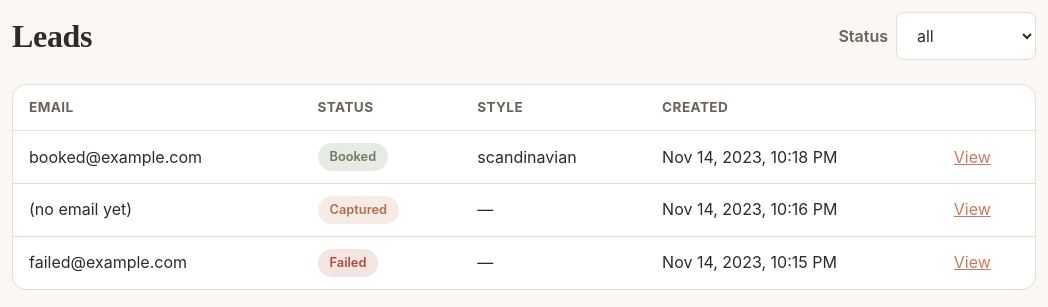
it: LeadsListPage › filtering by booked hides non-booked rows
Expected: the text "booked@example.com" is shown, [13,131,302,183]
Select "booked" in the dropdown labelled "Status" at point(966, 36), box [896,12,1036,60]
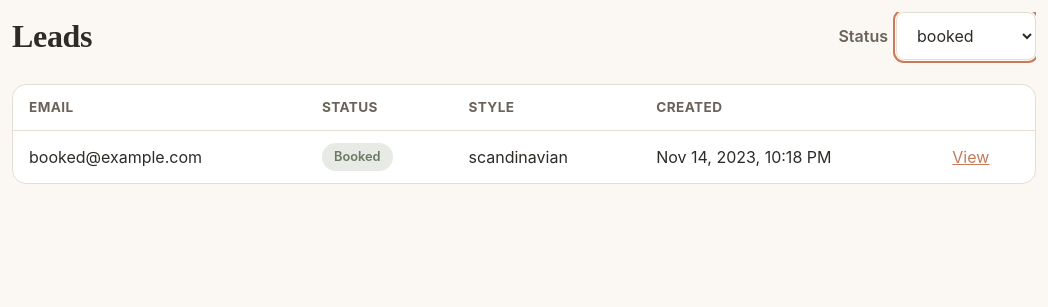
Expected: the text "booked@example.com" is shown, [13,131,306,183]
Result: the text "failed@example.com" is gone
Result: the text "(no email yet)" is gone
